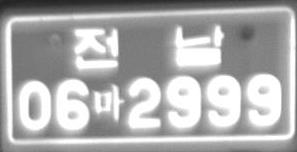0: (18, 78, 52, 130)
2: (128, 76, 161, 129)
6: (55, 78, 91, 129)
9: (246, 72, 282, 127), (206, 73, 242, 127), (167, 74, 202, 129)
마: (92, 82, 124, 122)
전남_D: (74, 23, 225, 70)
